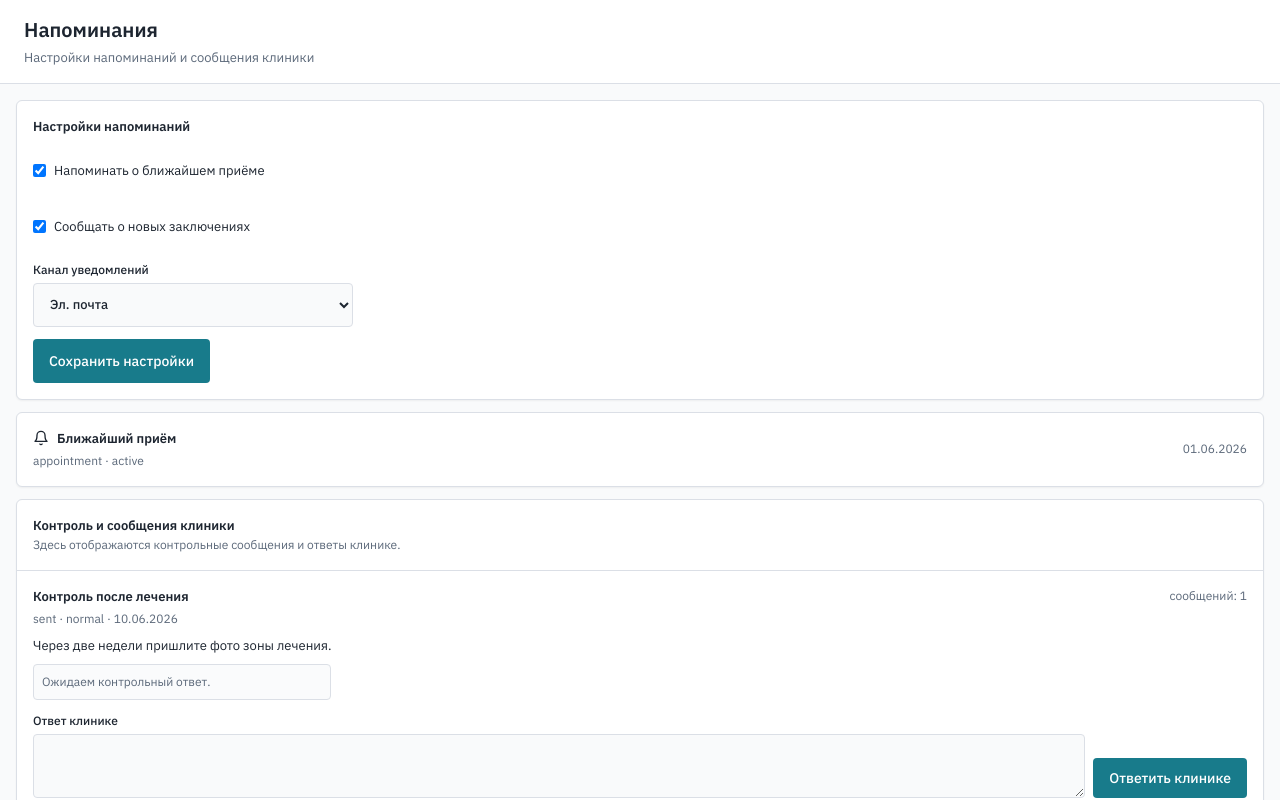
Scenario: Patient portal · Stage 5N production › shows reminders and updates reminder preferences
Check: the text "Ближайший приём" is shown, box [33,428,176,448]
Click the checkbox labelled "Напоминать о ближайшем приёме" at {"x": 40, "y": 170}, box [33,164,46,177]
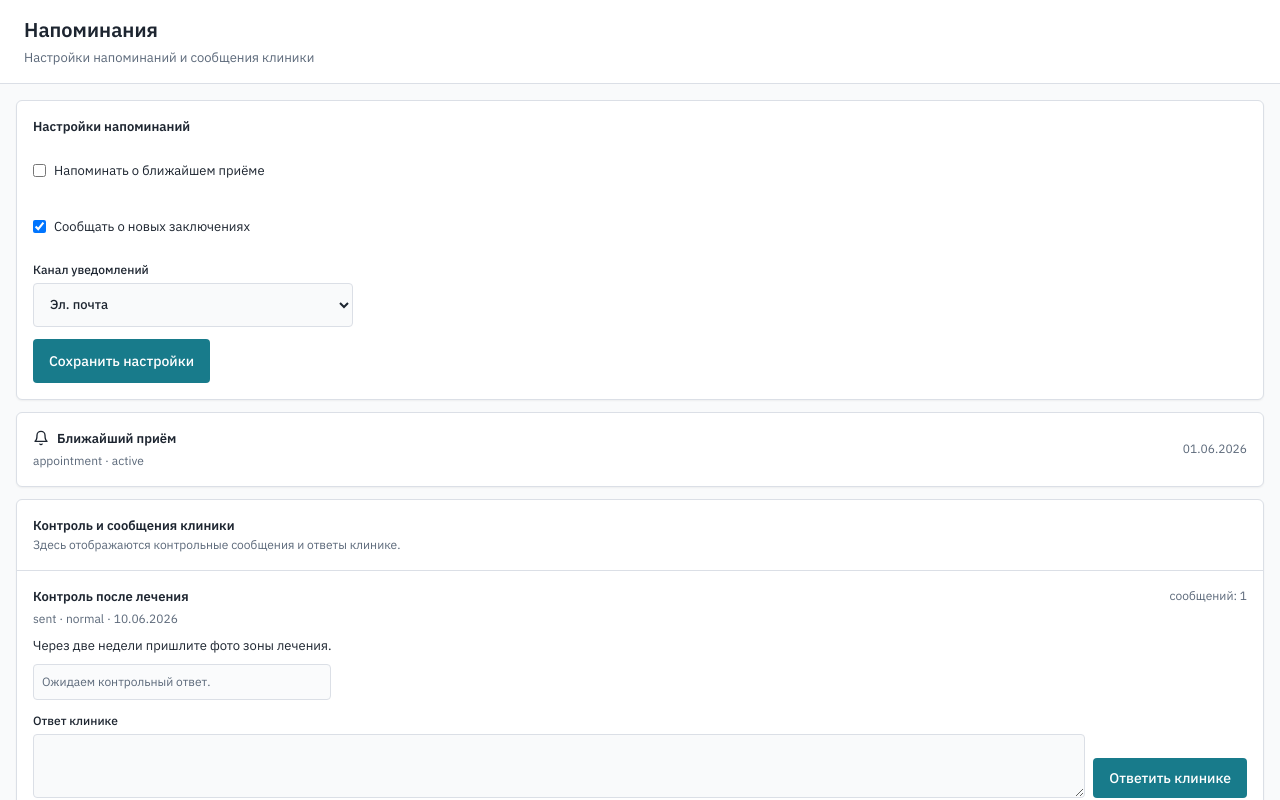
Select "Не отправлять" in the dropdown named "Канал уведомлений пациента" at {"x": 193, "y": 304}, box [33,282,353,326]
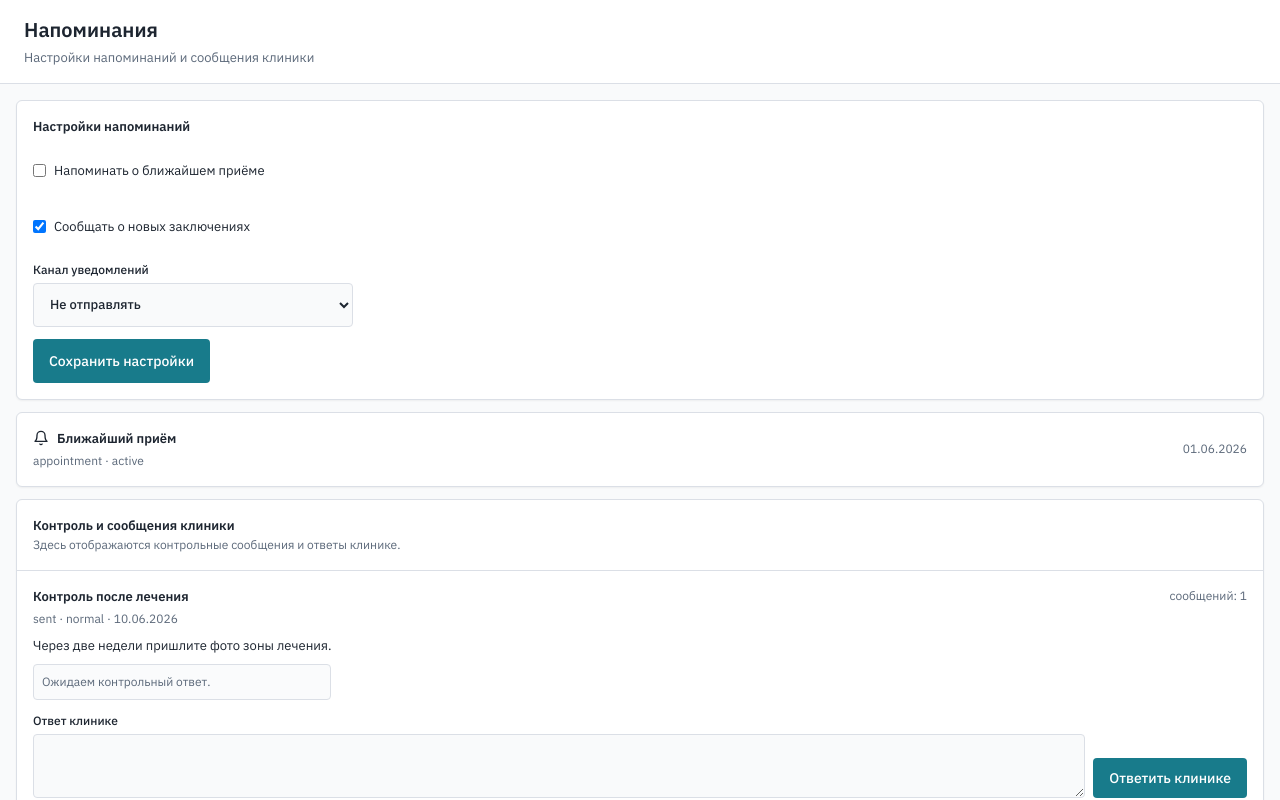
Click the button "Сохранить настройки" at {"x": 122, "y": 360}, box [33,338,210,382]
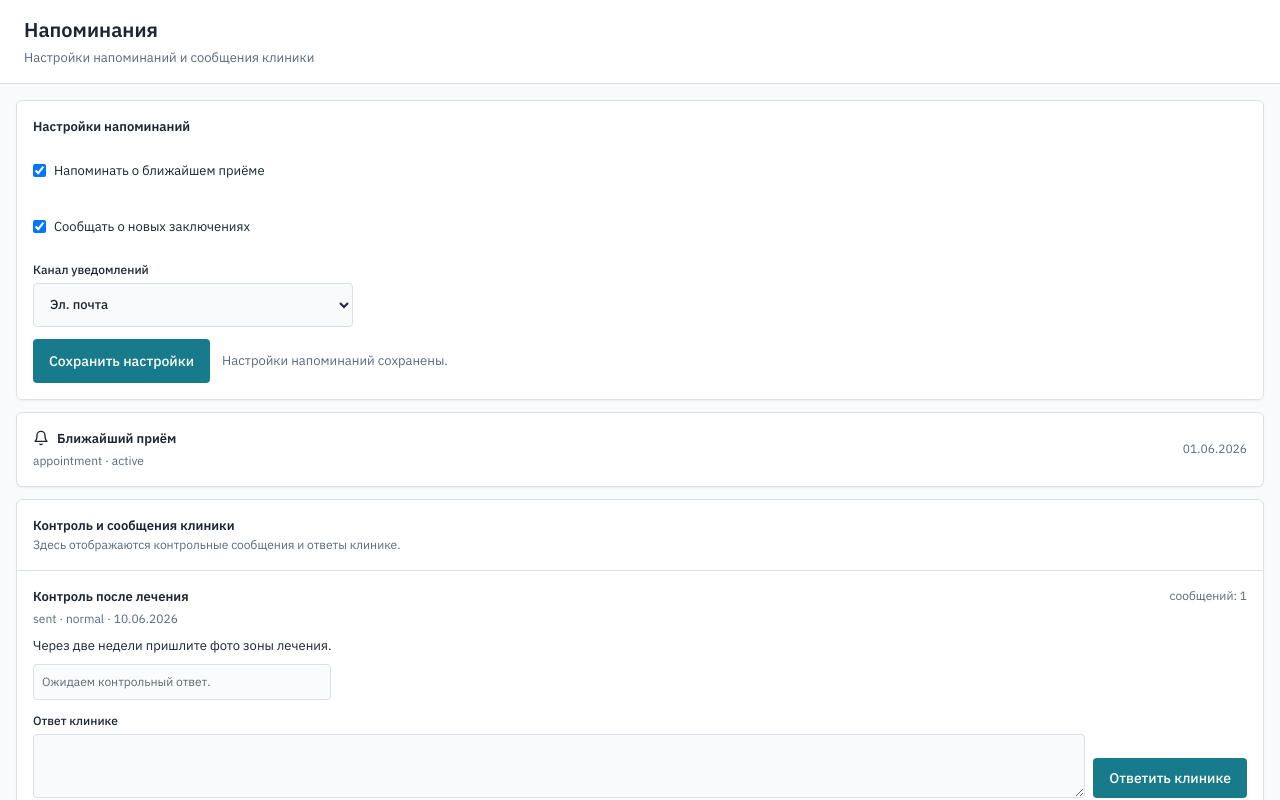
Check: the text "Настройки напоминаний сохранены." is shown, box [222,351,448,370]
